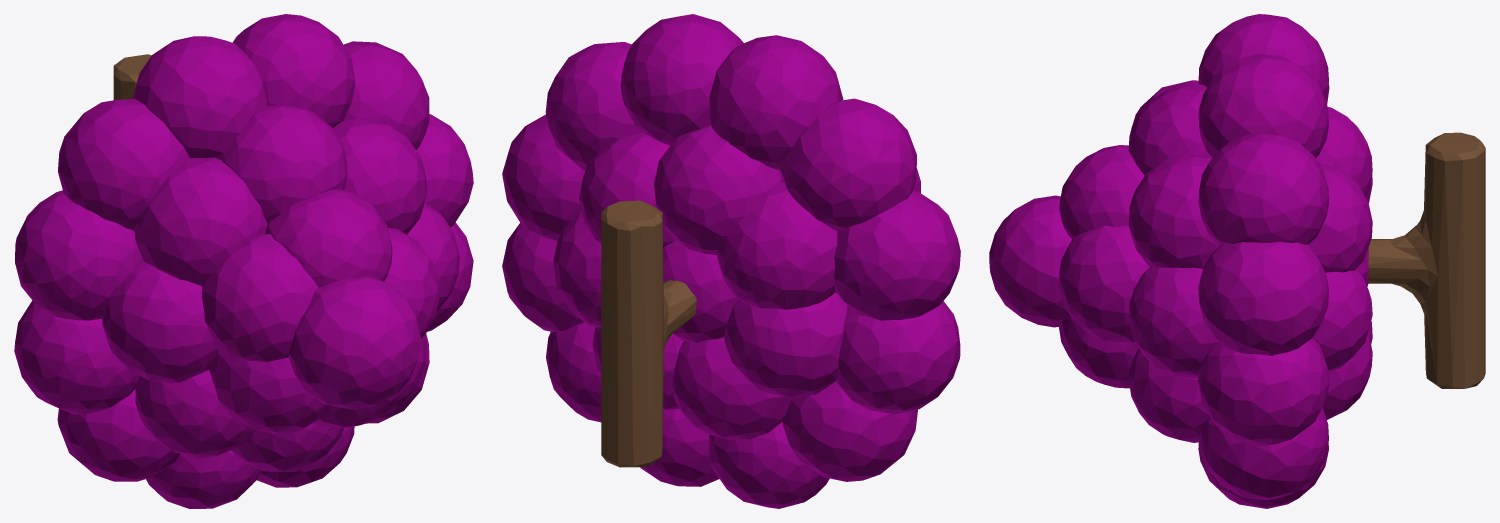
The picture shows the model from 3 angles, left to right: view 1: azimuth 30°, elevation 25°; view 2: azimuth 150°, elevation 25°; view 3: azimuth 270°, elevation 25°; orthographic projection. The views are drawn at different scales.
Visible parts, largest first — view 1: 組合件1 - 滾珠-1; view 2: 組合件1 - 滾珠-1; view 3: 組合件1 - 滾珠-1.
Part boxes in pixels (box(x1,y1,x2,y2)): 組合件1 - 滾珠-1: box(14, 14, 473, 508); 組合件1 - 滾珠-1: box(502, 14, 960, 508); 組合件1 - 滾珠-1: box(989, 14, 1485, 508).
Bounding box in the file's own units: 5605 × 5604 × 5697.
